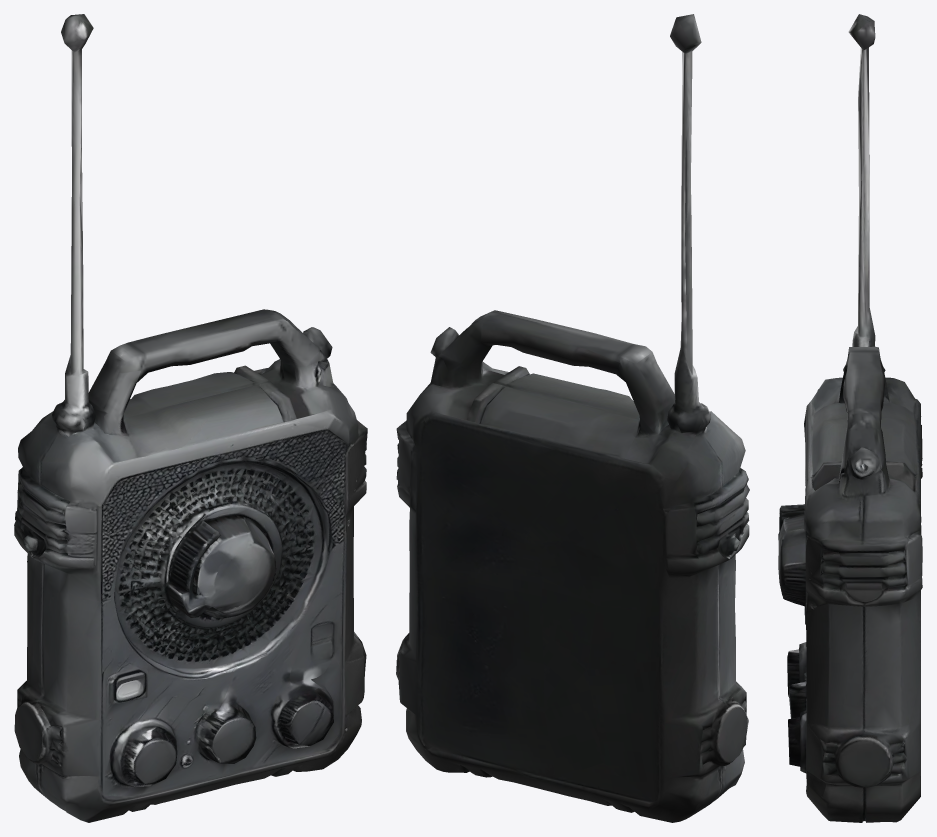
The model's file is kit-radio-pilha.glb.
The picture shows the model from 3 angles, left to right: view 1: azimuth 30°, elevation 25°; view 2: azimuth 150°, elevation 25°; view 3: azimuth 270°, elevation 25°; orthographic projection. The views are drawn at different scales.
Visible parts, largest first — view 1: tripo_node_665f005f-1573-4573-b802-5b3f3ca1d31a; view 2: tripo_node_665f005f-1573-4573-b802-5b3f3ca1d31a; view 3: tripo_node_665f005f-1573-4573-b802-5b3f3ca1d31a.
Part boxes in pixels (bbox=[...]): tripo_node_665f005f-1573-4573-b802-5b3f3ca1d31a: bbox=[14, 14, 367, 822]; tripo_node_665f005f-1573-4573-b802-5b3f3ca1d31a: bbox=[396, 14, 749, 822]; tripo_node_665f005f-1573-4573-b802-5b3f3ca1d31a: bbox=[778, 14, 922, 822].
Size of the model in its own units: 0.4194 by 0.98 by 0.1812.
Materials: 1 (1 with a texture image).
